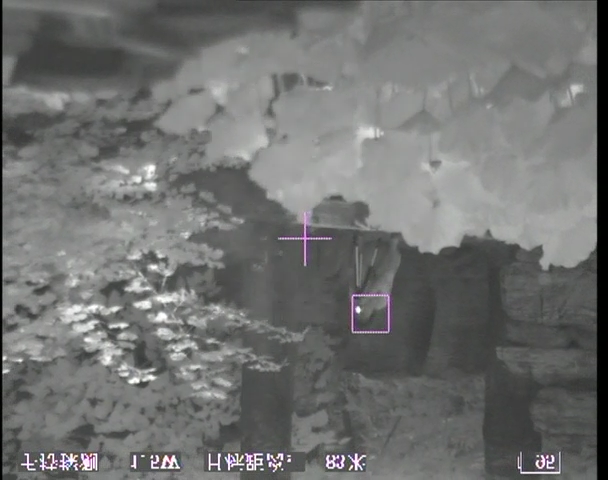my: (352, 305, 363, 316)
